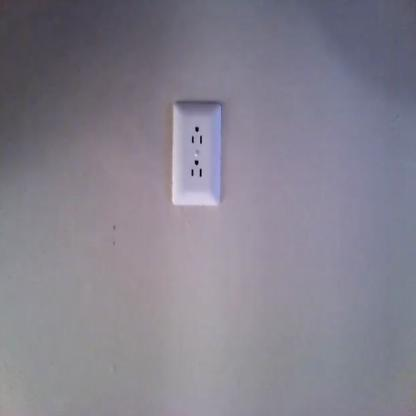OUTLET: (171, 101, 224, 207)
